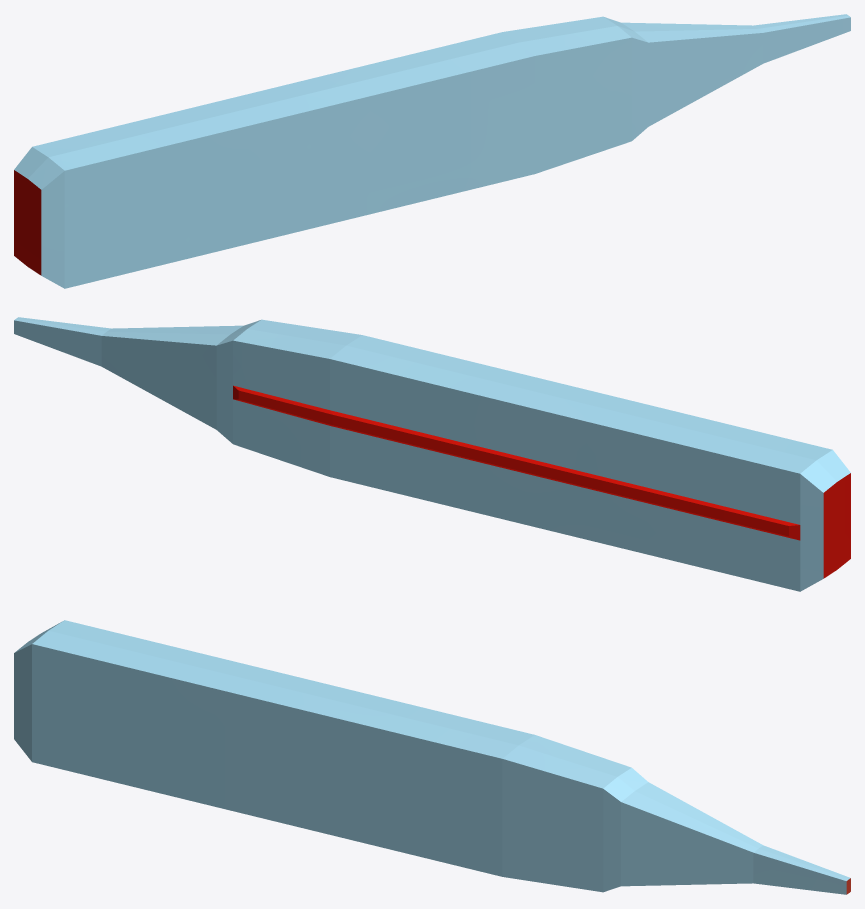
Rendered from thermometer.obj.
The picture shows the model from 3 angles, top to bottom: view 1: azimuth 30°, elevation 25°; view 2: azimuth 150°, elevation 25°; view 3: azimuth 330°, elevation 25°; orthographic projection.
Visible parts, largest first — view 1: thermometer_Material; view 2: thermometer_Material; view 3: thermometer_Material.
Part boxes in pixels (box(x1,y1,x2,y2)): thermometer_Material: box(14, 14, 850, 288); thermometer_Material: box(14, 317, 850, 591); thermometer_Material: box(14, 620, 850, 894).
Bounding box in the file's own units: 0.0863 × 0.0121 × 0.00619.
